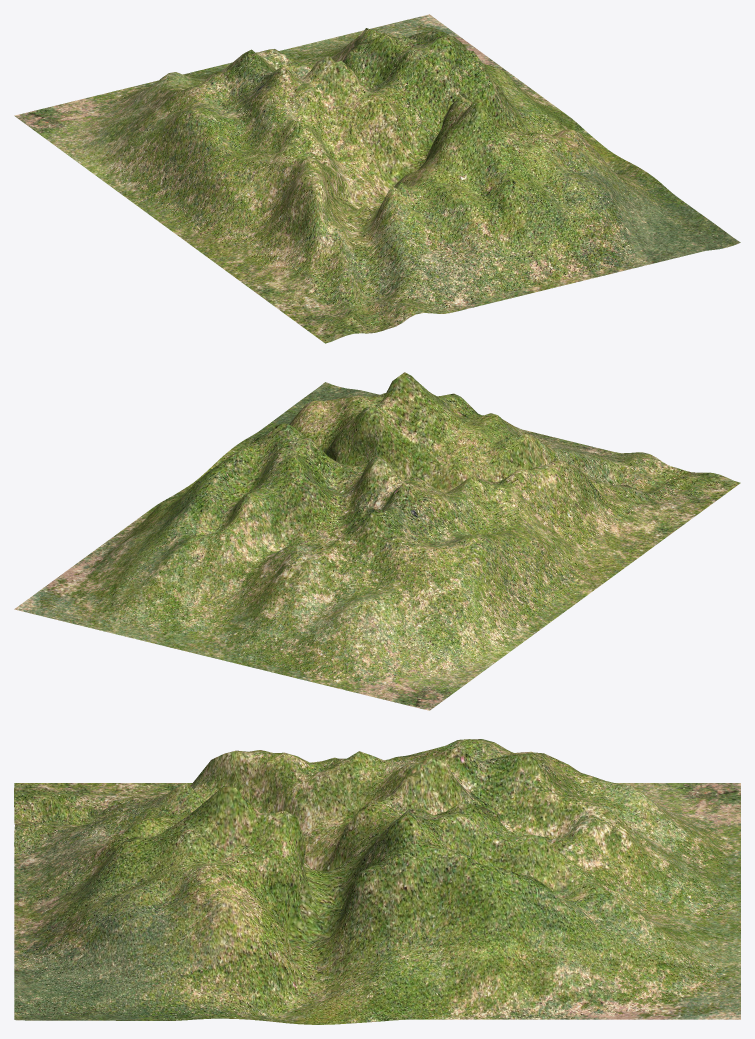
The model's file is mount.blend1.obj.
The picture shows the model from 3 angles, top to bottom: view 1: azimuth 30°, elevation 25°; view 2: azimuth 150°, elevation 25°; view 3: azimuth 270°, elevation 25°; orthographic projection. The views are drawn at different scales.
Visible parts, largest first — view 1: Landscape; view 2: Landscape; view 3: Landscape.
Part boxes in pixels (<box>): Landscape: <box>14,14,740,343</box>; Landscape: <box>14,372,740,710</box>; Landscape: <box>14,739,740,1024</box>.
Size of what is drawn, in the model's own units: 6.47 by 1.88 by 8.39.
